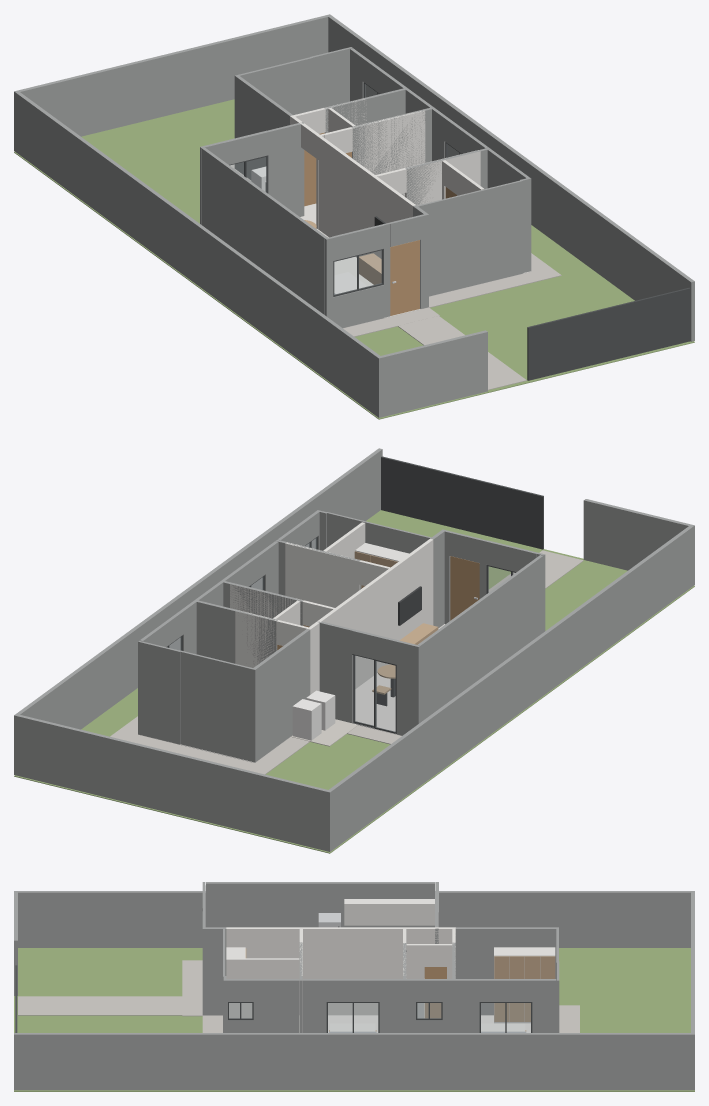
Rendered from casa.glb.
3 renders of one model, top to bottom at view 1: azimuth 30°, elevation 25°; view 2: azimuth 150°, elevation 25°; view 3: azimuth 270°, elevation 25°, orthographic. The views are drawn at different scales.
Visible parts, largest first — view 1: fachada, grama, parede, esquadria, concreto, door4_swing__porta, vidro, piso, door0_swing__porta, madeira; view 2: fachada, parede, grama, esquadria, concreto, vidro, piso, louca, door4_swing__porta, door5_slidex__vidro, madeira, preto (+1 smaller); view 3: fachada, grama, parede, concreto, vidro, armario, madeira, esquadria, enxoval, piso, door1_swing__porta, inox.
Part boxes in pixels (box(x1,y1,x2,y2)): fachada: box(14, 14, 694, 417); grama: box(14, 99, 694, 419); parede: box(290, 99, 483, 258); esquadria: box(229, 82, 690, 380); concreto: box(230, 164, 561, 390); door4_swing__porta: box(390, 240, 419, 315); vidro: box(230, 84, 458, 294); piso: box(234, 168, 531, 328); door0_swing__porta: box(304, 132, 324, 206); madeira: box(304, 220, 381, 284); fachada: box(14, 448, 694, 851); parede: box(230, 522, 433, 694); grama: box(14, 510, 694, 853); esquadria: box(166, 456, 543, 733); concreto: box(110, 550, 583, 774); vidro: box(167, 538, 514, 731); piso: box(138, 624, 444, 762); louca: box(292, 690, 335, 740); door4_swing__porta: box(450, 556, 479, 620); door5_slidex__vidro: box(355, 656, 373, 725); madeira: box(354, 551, 438, 694); preto: box(376, 586, 421, 706); fachada: box(14, 882, 694, 1090); grama: box(14, 948, 694, 1091); parede: box(226, 927, 455, 1032); concreto: box(18, 960, 579, 1032); vidro: box(229, 1003, 530, 1032); armario: box(226, 899, 555, 1023); madeira: box(245, 948, 555, 1031); esquadria: box(15, 965, 532, 1032); enxoval: box(330, 1023, 525, 1031); piso: box(203, 978, 530, 1032); door1_swing__porta: box(424, 967, 446, 1018); inox: box(318, 913, 340, 927).
Bounding box in the file's own units: 10 × 2.85 × 20.
